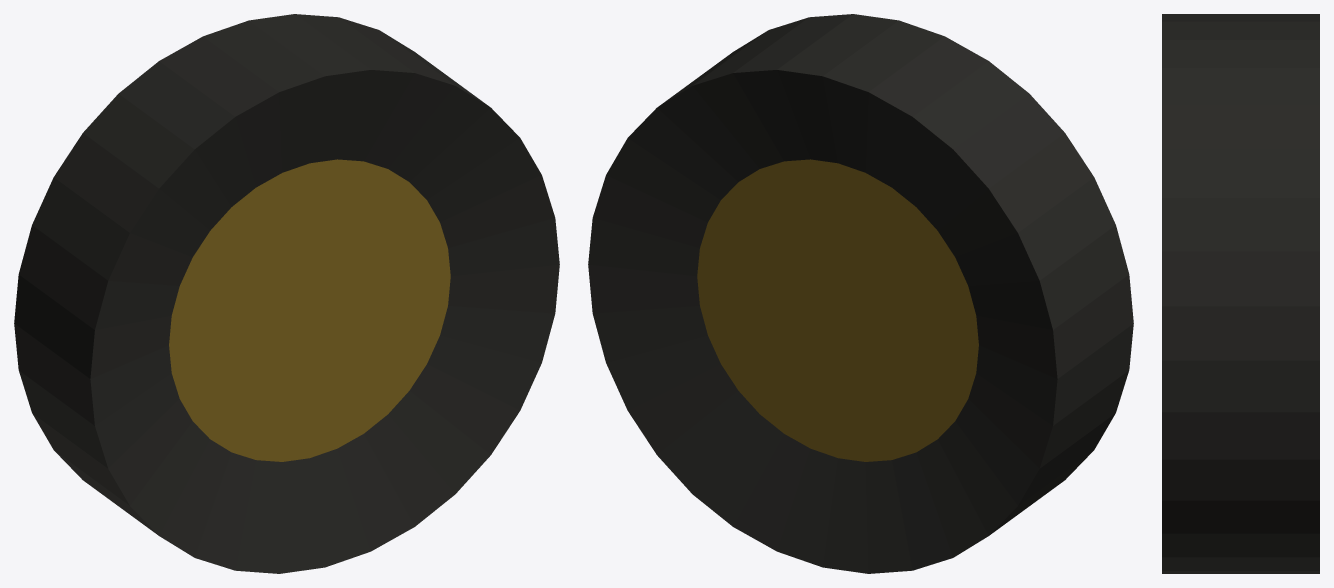
The model's file is Wheel.fbx.
3 views of the same model, side by side, from view 1: azimuth 30°, elevation 25°; view 2: azimuth 150°, elevation 25°; view 3: azimuth 270°, elevation 25° (orthographic). The views are drawn at different scales.
Visible parts, largest first — view 1: WheelBackRight; view 2: WheelBackRight; view 3: WheelBackRight.
Part boxes in pixels (x1,y1,x2,y2): WheelBackRight: [14, 14, 559, 573]; WheelBackRight: [588, 14, 1133, 573]; WheelBackRight: [1162, 14, 1319, 573].
Size of the model in its own units: 133 by 133 by 37.52.
